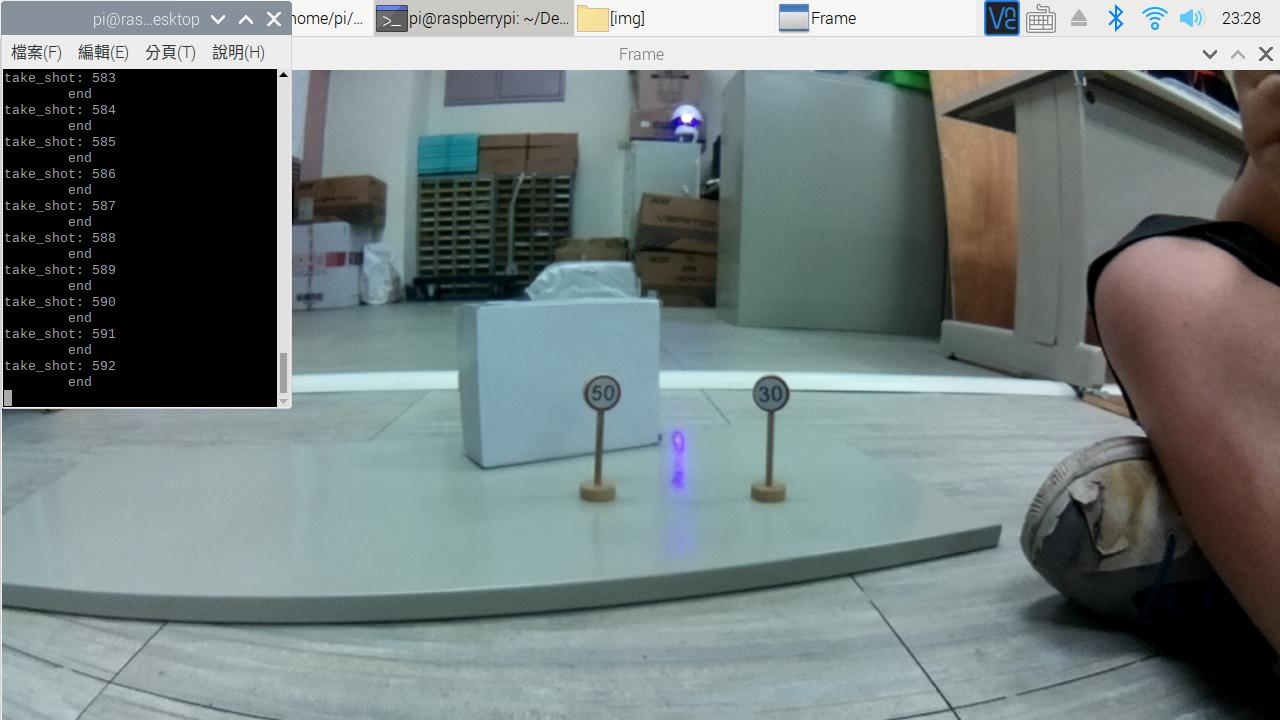Speed30: (751, 373, 796, 422)
Speed50: (576, 373, 625, 420)
